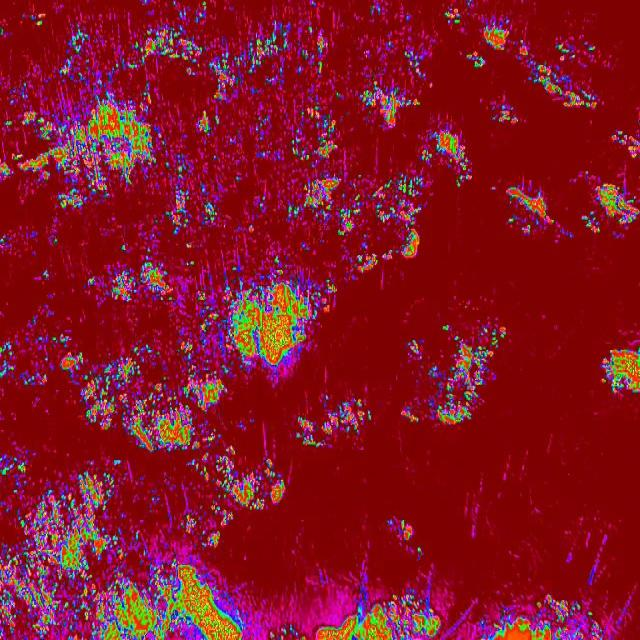fire: (0, 0, 317, 360), (0, 362, 236, 640), (316, 0, 426, 279), (400, 318, 508, 427), (513, 29, 615, 113), (260, 596, 442, 640), (474, 599, 604, 640), (578, 162, 639, 236), (506, 180, 574, 244), (426, 118, 481, 192), (294, 397, 370, 449), (236, 454, 290, 510), (599, 344, 640, 400), (384, 512, 428, 562), (476, 14, 518, 51), (490, 100, 526, 131), (317, 278, 340, 322), (610, 129, 640, 160), (442, 6, 470, 32), (464, 49, 488, 77)
